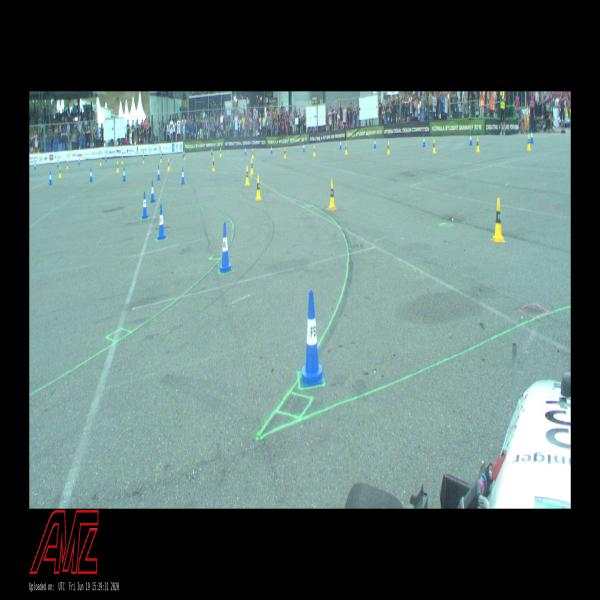blue_cone: (301, 290, 324, 386), (219, 222, 232, 274), (158, 205, 167, 240), (142, 192, 148, 218), (150, 180, 156, 202), (181, 167, 185, 184), (530, 128, 534, 144), (157, 166, 161, 180), (90, 168, 93, 182), (123, 168, 126, 181), (49, 171, 52, 184), (339, 139, 342, 149), (423, 135, 425, 147), (470, 133, 472, 145), (303, 142, 305, 152), (374, 138, 376, 148), (270, 145, 272, 154), (57, 160, 59, 168), (160, 150, 162, 158), (211, 147, 213, 155), (34, 162, 36, 169), (183, 150, 184, 158), (245, 147, 246, 154)
yellow_cone: (491, 198, 505, 242), (328, 179, 336, 210), (256, 176, 261, 200), (245, 166, 250, 185), (250, 158, 254, 175), (527, 134, 531, 150), (476, 137, 480, 152), (432, 139, 436, 153), (212, 157, 215, 171), (387, 141, 390, 154), (59, 167, 62, 178), (313, 145, 316, 156), (345, 143, 348, 154), (168, 158, 170, 171), (117, 161, 119, 173), (121, 156, 124, 164), (252, 149, 254, 159), (184, 150, 186, 160), (284, 148, 286, 158), (220, 148, 222, 157), (66, 161, 68, 169), (143, 155, 145, 163), (160, 154, 162, 162), (100, 158, 102, 165)
